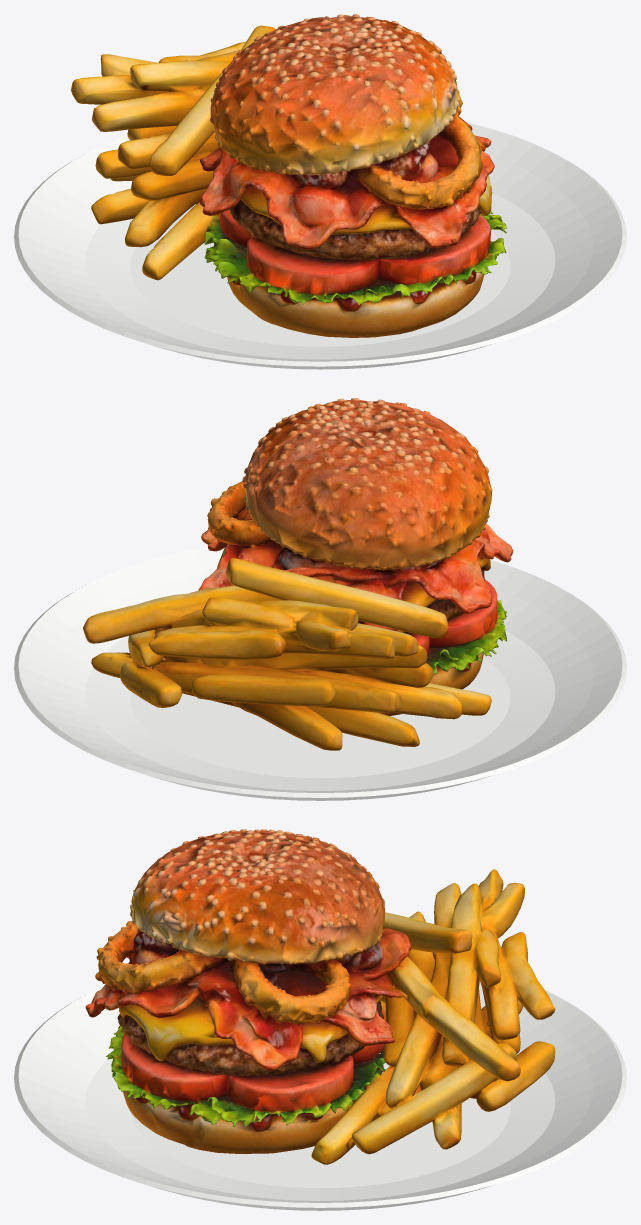
Rendered from hamburguesa_110.glb.
3 views of the same model, one above another, from view 1: azimuth 30°, elevation 25°; view 2: azimuth 150°, elevation 25°; view 3: azimuth 270°, elevation 25° (orthographic).
Visible parts, largest first — view 1: comida, plato; view 2: comida, plato; view 3: comida, plato.
Boxes of the visible parts, <box> form: comida: <box>71,14,506,337</box>; plato: <box>14,122,626,369</box>; comida: <box>83,398,513,750</box>; plato: <box>14,547,626,800</box>; comida: <box>85,829,555,1164</box>; plato: <box>14,981,626,1210</box>.
Size of the model in its own units: 0.274 by 0.1308 by 0.274.
2 materials, 1 textured.
